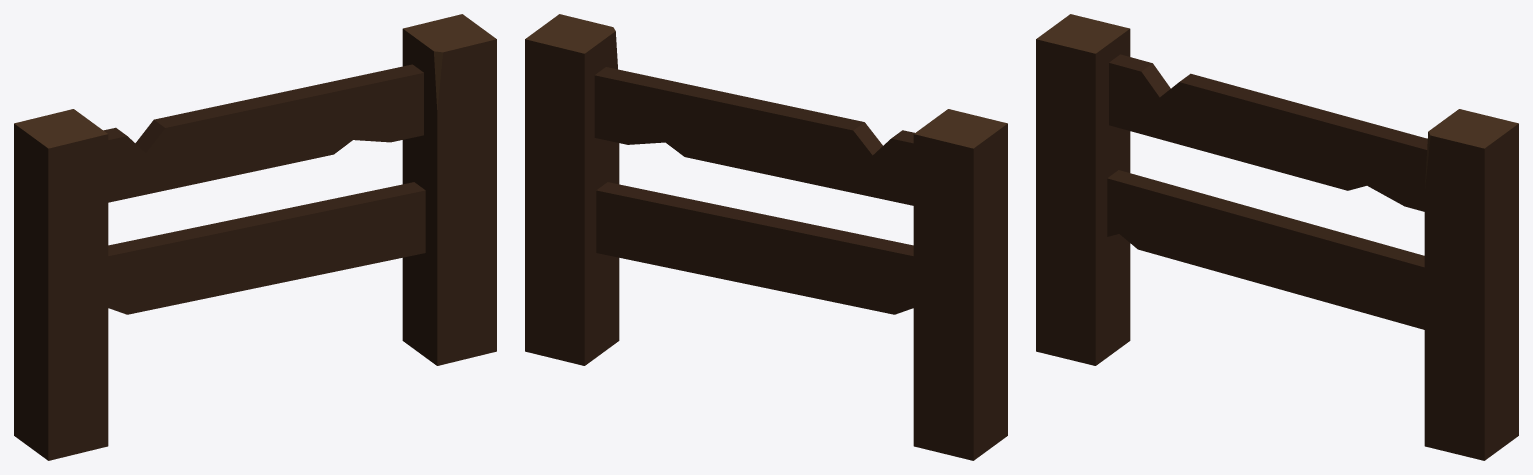
Rendered from Cave_Lair_Wooden_Timber_Fence_Small_05.fbx.
3 views of the same model, side by side, from view 1: azimuth 30°, elevation 25°; view 2: azimuth 150°, elevation 25°; view 3: azimuth 330°, elevation 25° (orthographic).
Parts seen in each view (by area): view 1: Cave_Lair_Wooden_Timber_Fence_Small_05; view 2: Cave_Lair_Wooden_Timber_Fence_Small_05; view 3: Cave_Lair_Wooden_Timber_Fence_Small_05.
Part boxes in pixels (x1,y1,x2,y2): Cave_Lair_Wooden_Timber_Fence_Small_05: [14, 14, 496, 460]; Cave_Lair_Wooden_Timber_Fence_Small_05: [525, 14, 1007, 460]; Cave_Lair_Wooden_Timber_Fence_Small_05: [1036, 14, 1518, 460].
Size of the model in its own units: 1.69 by 1.12 by 0.225.
